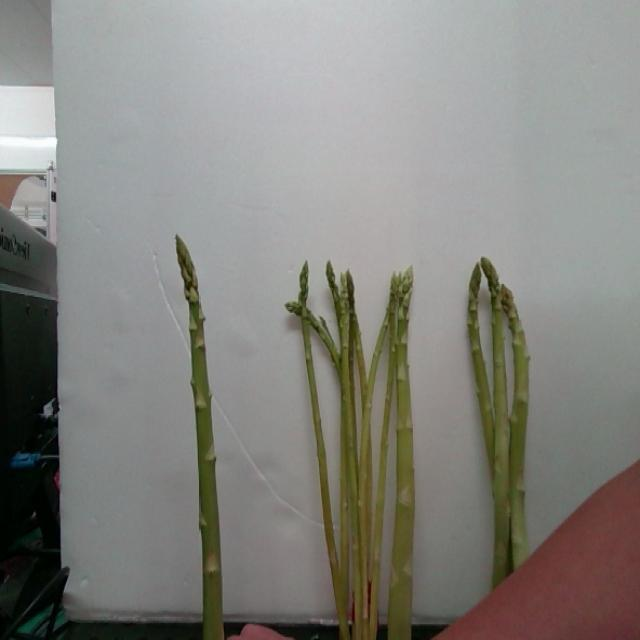aspargus: (176, 237, 226, 640), (388, 271, 416, 640)
